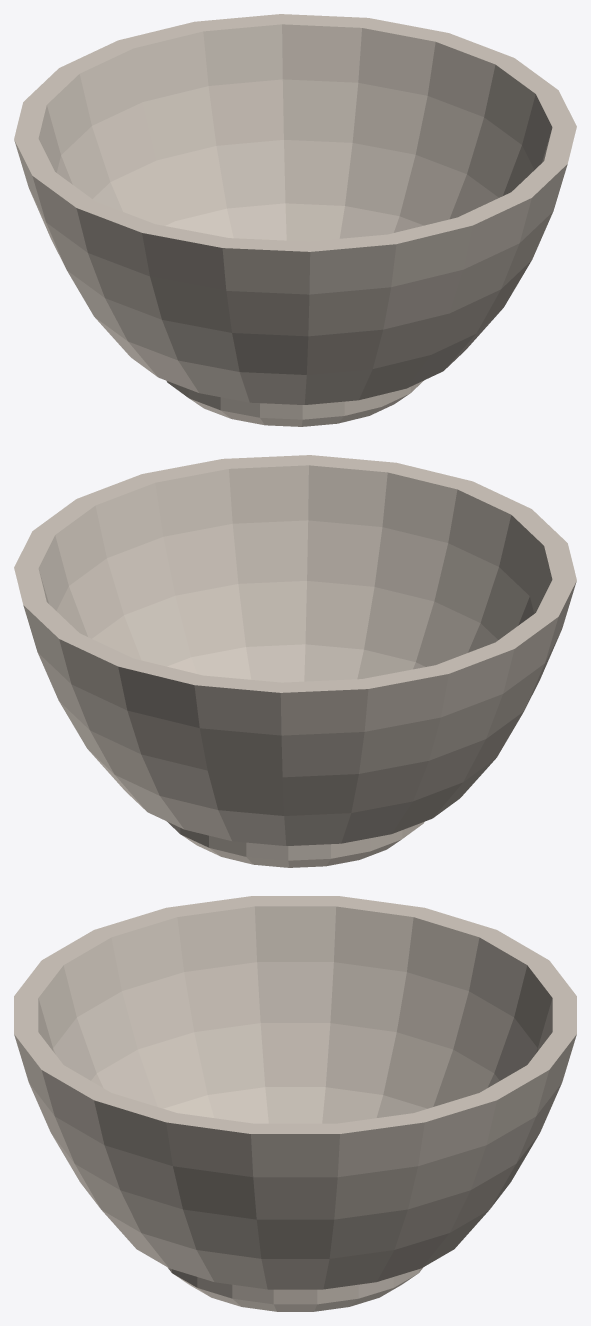
File: SM_Cook_SideBowl_01.glb
3 views of the same model, one above another, from view 1: azimuth 30°, elevation 25°; view 2: azimuth 150°, elevation 25°; view 3: azimuth 270°, elevation 25° (orthographic).
Parts seen in each view (by area): view 1: SM_Cook_SideBowl_01; view 2: SM_Cook_SideBowl_01; view 3: SM_Cook_SideBowl_01.
Boxes of the visible parts, x1=… form: SM_Cook_SideBowl_01: x1=14, y1=14, x2=576, y2=426; SM_Cook_SideBowl_01: x1=14, y1=455, x2=576, y2=867; SM_Cook_SideBowl_01: x1=14, y1=896, x2=576, y2=1311.
Bounding box in the file's own units: 0.1136 × 0.055 × 0.1136.
Materials: 1 (1 with a texture image).
